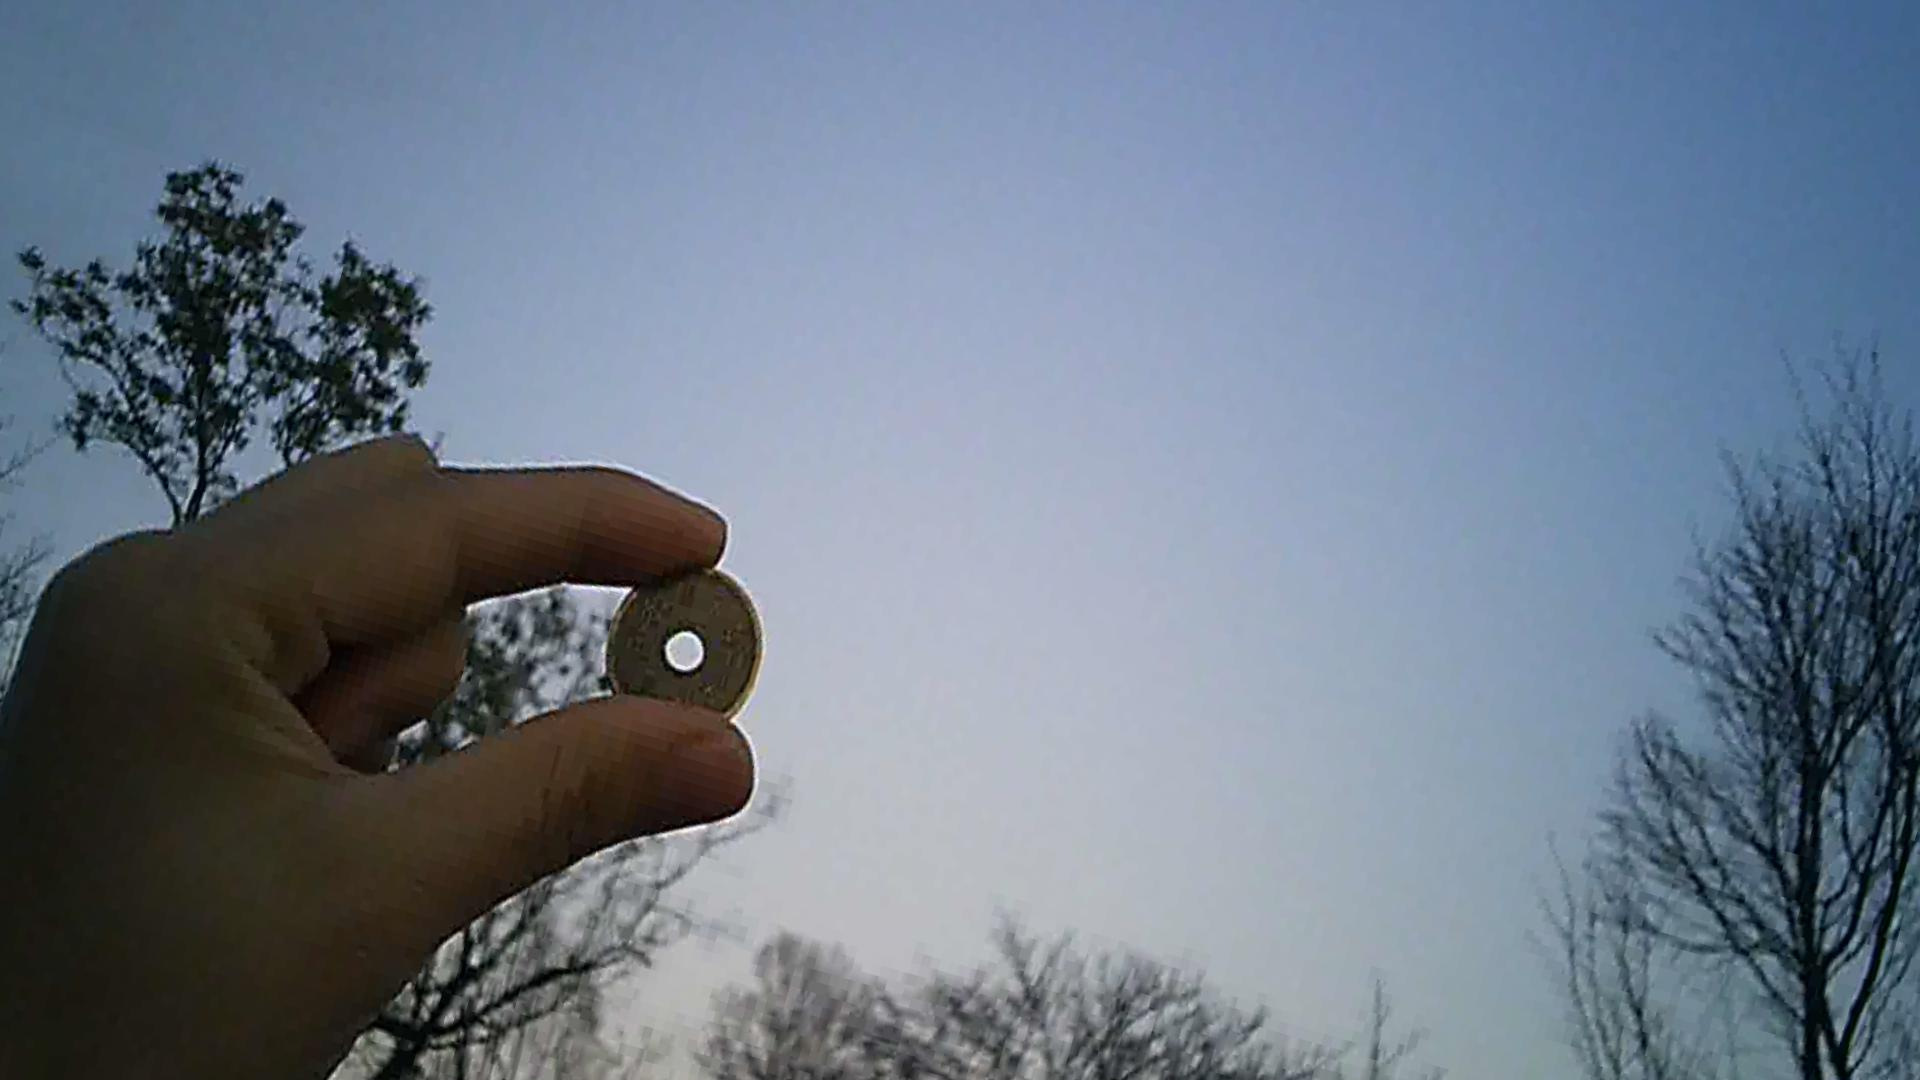5 Yen: (595, 564, 791, 731)
